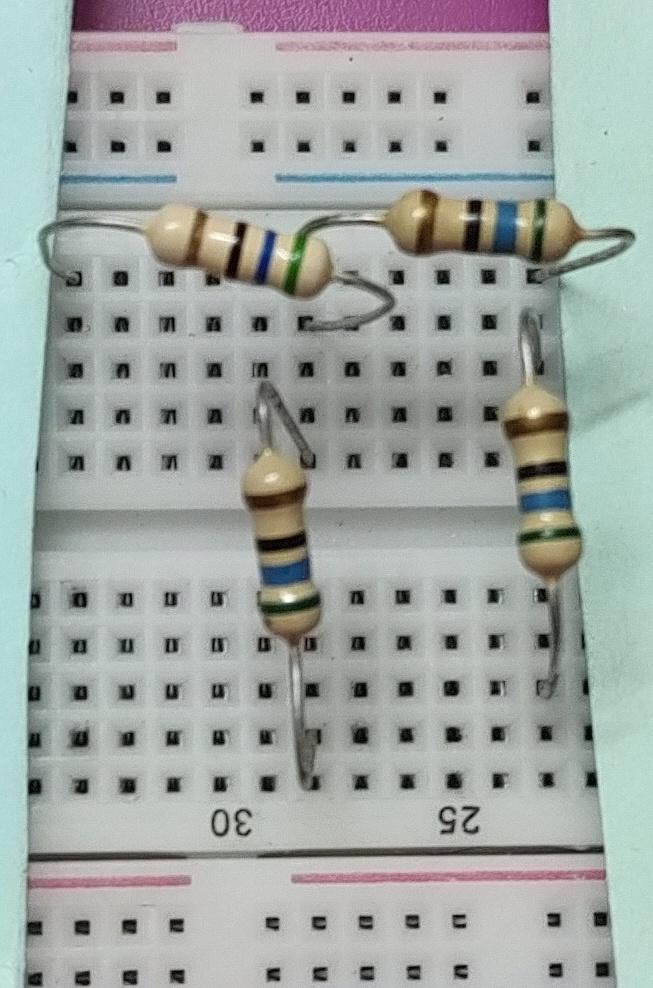resistor: (135, 189, 341, 308), (487, 371, 596, 595), (231, 441, 344, 652), (381, 181, 594, 268)
